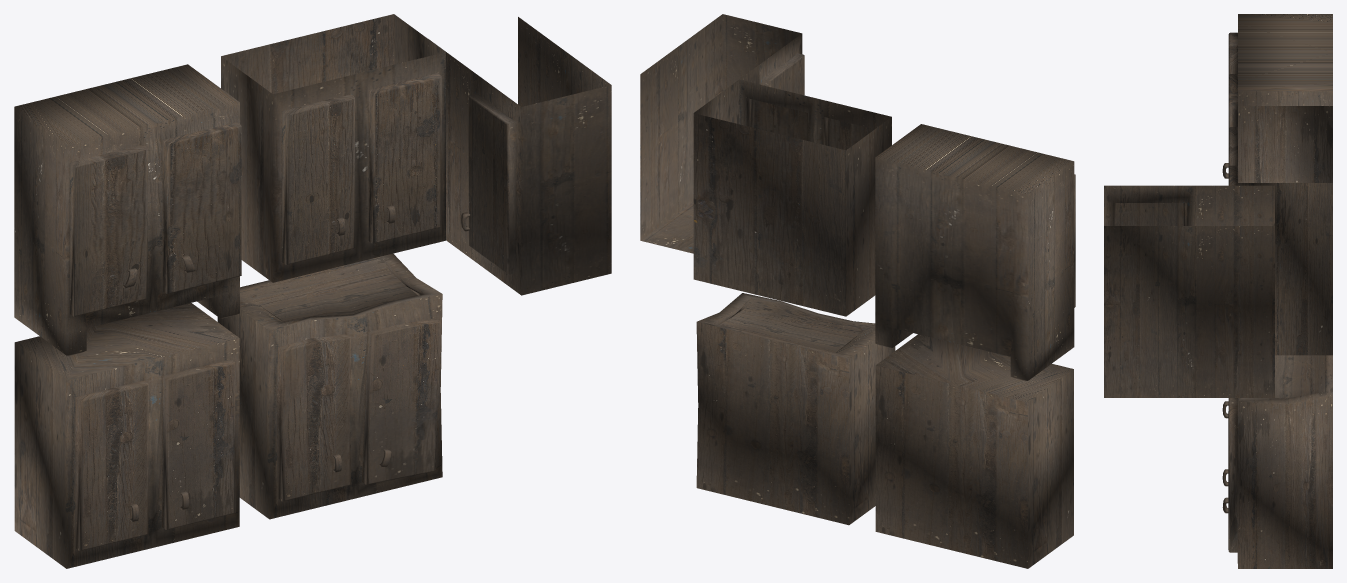
File: keukenkast.fbx
The picture shows the model from 3 angles, left to right: view 1: azimuth 30°, elevation 25°; view 2: azimuth 150°, elevation 25°; view 3: azimuth 270°, elevation 25°; orthographic projection. The views are drawn at different scales.
Parts seen in each view (by area): view 1: Keukenkast4, Keukenkast2, Keukenkast1, Keukenkast3; view 2: Keukenkast4, Keukenkast2, Keukenkast1, Keukenkast3; view 3: Keukenkast4, Keukenkast3, Keukenkast2.
Part boxes in pixels (x1=…): Keukenkast4: x1=221, y1=14, x2=611, y2=295; Keukenkast2: x1=14, y1=64, x2=241, y2=355; Keukenkast1: x1=14, y1=303, x2=239, y2=568; Keukenkast3: x1=217, y1=253, x2=442, y2=519; Keukenkast4: x1=640, y1=14, x2=891, y2=316; Keukenkast2: x1=875, y1=124, x2=1075, y2=380; Keukenkast1: x1=875, y1=334, x2=1073, y2=568; Keukenkast3: x1=696, y1=293, x2=895, y2=525; Keukenkast4: x1=1104, y1=106, x2=1332, y2=397; Keukenkast3: x1=1222, y1=355, x2=1332, y2=568; Keukenkast2: x1=1222, y1=14, x2=1332, y2=178.
Size of the model in its own units: 1047 by 900 by 482.
Materials: 1 (1 with a texture image).
